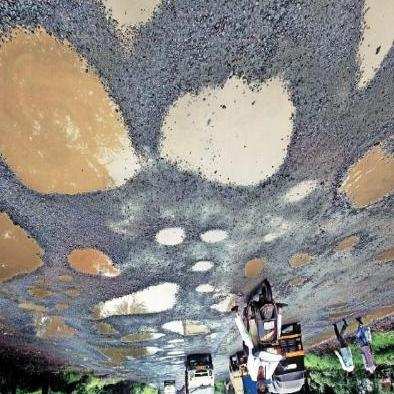pothole: (0, 22, 136, 201), (158, 77, 297, 185), (0, 203, 50, 293), (88, 282, 182, 325), (337, 150, 394, 212), (89, 0, 174, 31), (61, 244, 123, 282), (31, 315, 75, 342), (164, 318, 213, 340), (153, 225, 186, 251), (16, 298, 54, 316), (333, 233, 364, 255), (243, 256, 265, 283), (201, 227, 229, 248), (119, 331, 164, 344), (211, 293, 239, 313), (190, 259, 216, 277), (291, 252, 316, 270), (374, 243, 394, 263), (289, 276, 310, 292), (65, 287, 84, 303), (27, 288, 54, 298), (195, 281, 214, 295), (55, 302, 71, 316), (323, 301, 349, 308), (387, 271, 394, 292), (59, 275, 74, 283)
